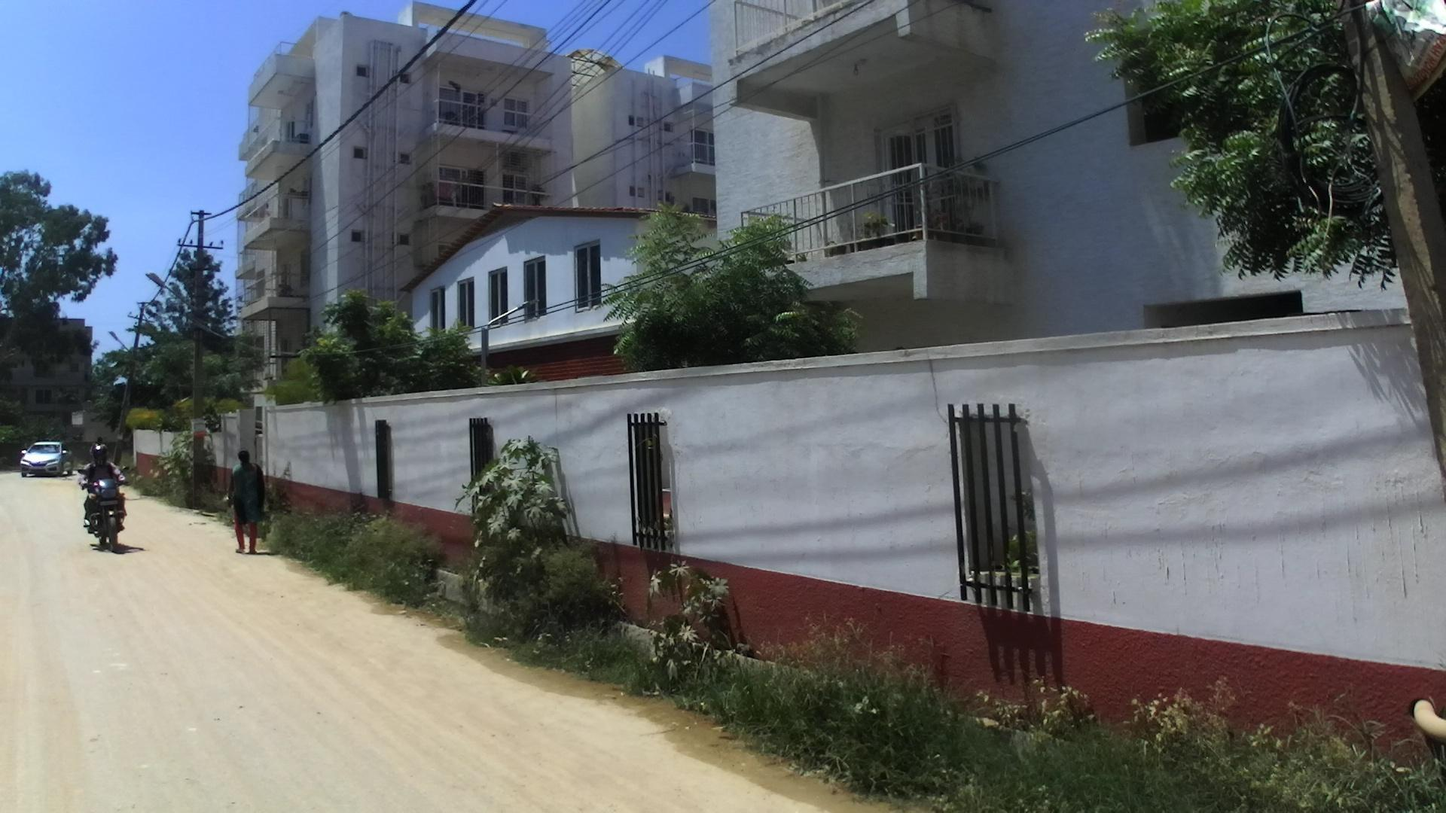streetlight: (146, 273, 203, 330), (108, 330, 136, 367)
